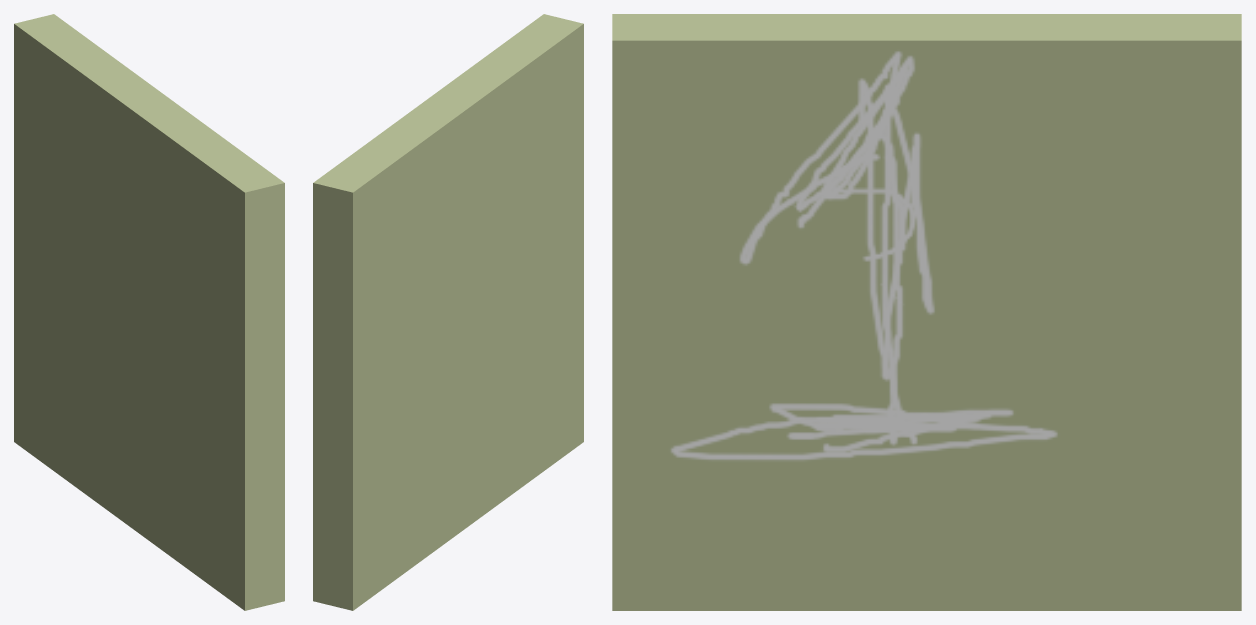
Rendered from trump_nums.glb.
3 renders of one model, left to right at view 1: azimuth 30°, elevation 25°; view 2: azimuth 150°, elevation 25°; view 3: azimuth 270°, elevation 25°, orthographic. The views are drawn at different scales.
Parts seen in each view (by area): view 1: Card_1; view 2: Card_1; view 3: Card_1.
Boxes of the visible parts, x1,y1,x2,y2 form: Card_1: [14, 14, 284, 610]; Card_1: [313, 14, 583, 610]; Card_1: [612, 14, 1241, 610].
Size of the model in its own units: 0.2 by 2 by 2.
11 materials, 11 textured.
